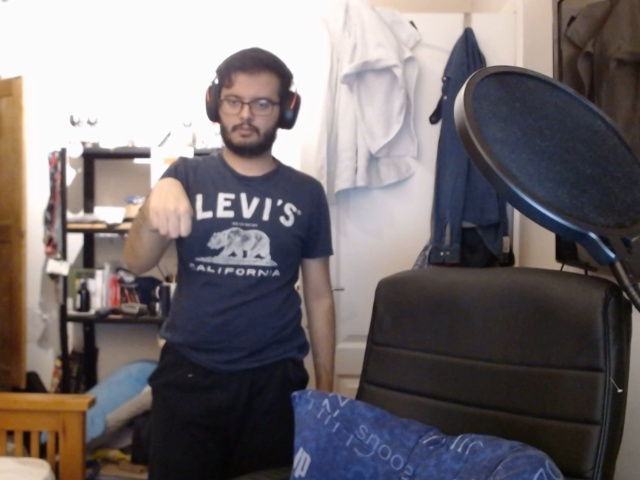Yes: (138, 167, 207, 239)
